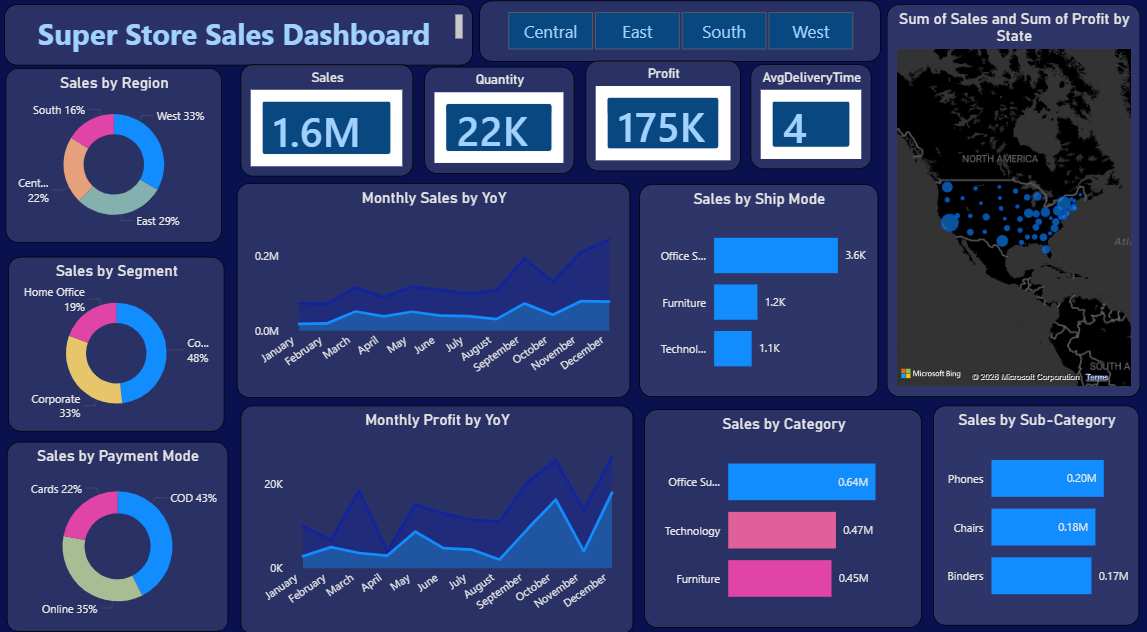

The page's visual inventory and layout, read from the dashboard file:
{"tool":"powerbi","page":{"name":"Page 1","canvas":[1280,720],"ordinal":0},"visuals":[{"type":"clusteredBarChart","title":" Sales by Category","fields":{"Category":["SuperStore_Sales_Dataset.Category"],"Y":["Sum(SuperStore_Sales_Dataset.Sales)"]},"box":[720.4,456.9,305.2,240.1],"z":0},{"type":"clusteredBarChart","title":" Sales by Sub-Category","fields":{"Category":["SuperStore_Sales_Dataset.Sub-Category"],"Y":["Sum(SuperStore_Sales_Dataset.Sales)"]},"box":[1037.4,452.8,226.7,241.5],"z":1000},{"type":"clusteredBarChart","title":" Sales by Ship Mode      ","fields":{"Category":["SuperStore_Sales_Dataset.Category"],"Y":["CountNonNull(SuperStore_Sales_Dataset.Ship Mode)"]},"box":[714.9,209.9,262.1,233.3],"z":2000},{"type":"stackedAreaChart","title":"Monthly Sales by YoY                         ","fields":{"Category":["SuperStore_Sales_Dataset.Order Date.Variation.Date Hierarchy.Month","SuperStore_Sales_Dataset.Order Date.Variation.Date Hierarchy.Day"],"Y":["Sum(SuperStore_Sales_Dataset.Sales)"],"Series":["SuperStore_Sales_Dataset.Order Date.Variation.Date Hierarchy.Year"]},"box":[273.1,208.6,432,236],"z":3000},{"type":"stackedAreaChart","title":"Monthly Profit by YoY                             ","fields":{"Category":["SuperStore_Sales_Dataset.Order Date.Variation.Date Hierarchy.Month","SuperStore_Sales_Dataset.Order Date.Variation.Date Hierarchy.Day"],"Series":["SuperStore_Sales_Dataset.Order Date.Variation.Date Hierarchy.Year"],"Y":["Sum(SuperStore_Sales_Dataset.Profit)"]},"box":[277.2,452.6,430.9,252.5],"z":4000},{"type":"map","fields":{"Category":["SuperStore_Sales_Dataset.State"],"Size":["Sum(SuperStore_Sales_Dataset.Sales)"]},"box":[986.6,12.3,278.6,430.9],"z":5000},{"type":"donutChart","title":"Sales by Segment","fields":{"Category":["SuperStore_Sales_Dataset.Segment"],"Y":["Sum(SuperStore_Sales_Dataset.Sales)"]},"box":[22,289.5,237.4,192.1],"z":6000},{"type":"donutChart","title":" Sales by Payment Mode","fields":{"Category":["SuperStore_Sales_Dataset.Payment Mode","SuperStore_Sales_Dataset.Segment"],"Y":["Sum(SuperStore_Sales_Dataset.Sales)"]},"box":[20,492.1,242.9,209.9],"z":7000},{"type":"slicer","fields":{"Values":["SuperStore_Sales_Dataset.Region"]},"box":[539.3,8.5,440.5,67],"z":8000},{"type":"textbox","box":[17.8,12.3,514.3,67.2],"z":9000},{"type":"cardVisual","title":"Sales","fields":{"Data":["Sum(SuperStore_Sales_Dataset.Sales)"]},"box":[277.2,78.2,189.4,123.5],"z":10000},{"type":"cardVisual","title":"Quantity","fields":{"Data":["Sum(SuperStore_Sales_Dataset.Quantity)"]},"box":[478.9,81,164.7,117.5],"z":11000},{"type":"cardVisual","title":"Profit","fields":{"Data":["Sum(SuperStore_Sales_Dataset.Profit)"]},"box":[655.9,74.1,170.2,121.3],"z":12000},{"type":"cardVisual","title":"AvgDeliveryTime","fields":{"Data":["Avg(SuperStore_Sales_Dataset.DeliveryTime)"]},"box":[837.6,78.5,133.1,115.3],"z":13000},{"type":"donutChart","title":"Sales by Region","fields":{"Y":["Sum(SuperStore_Sales_Dataset.Sales)"],"Category":["SuperStore_Sales_Dataset.Region"]},"box":[19.5,82.9,237.4,192.1],"z":13001}]}

Visuals, with their boxes in screenshot pixels (x1, y1, x2, y2), scaled from the page's 1280x720 canvas onto the 1147x632 screenshot:
" Sales by Category" clusteredBarChart: l=646, t=401, r=919, b=612
" Sales by Sub-Category" clusteredBarChart: l=930, t=397, r=1133, b=609
" Sales by Ship Mode      " clusteredBarChart: l=641, t=184, r=875, b=389
"Monthly Sales by YoY                         " stackedAreaChart: l=245, t=183, r=632, b=390
"Monthly Profit by YoY                             " stackedAreaChart: l=248, t=397, r=635, b=619
map - SuperStore_Sales_Dataset.State x Sum(SuperStore_Sales_Dataset.Sales): l=884, t=11, r=1134, b=389
"Sales by Segment" donutChart: l=20, t=254, r=232, b=423
" Sales by Payment Mode" donutChart: l=18, t=432, r=236, b=616
slicer - SuperStore_Sales_Dataset.Region: l=483, t=7, r=878, b=66
textbox: l=16, t=11, r=477, b=70
"Sales" cardVisual: l=248, t=69, r=418, b=177
"Quantity" cardVisual: l=429, t=71, r=577, b=174
"Profit" cardVisual: l=588, t=65, r=740, b=172
"AvgDeliveryTime" cardVisual: l=751, t=69, r=870, b=170
"Sales by Region" donutChart: l=17, t=73, r=230, b=241
